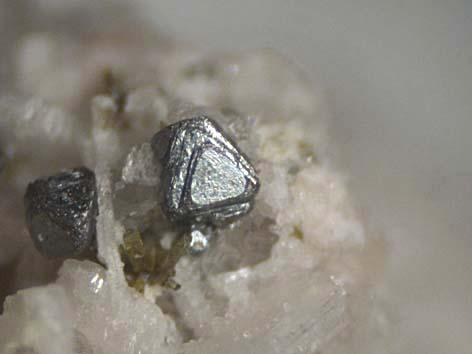magnetite: (151, 116, 261, 254), (26, 168, 98, 256)
